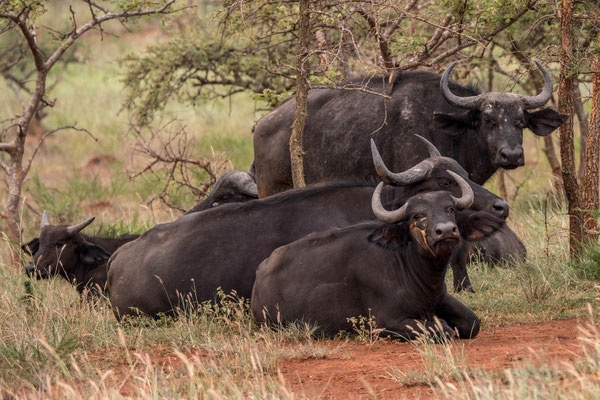buffalo: (101, 133, 513, 328), (248, 52, 570, 300), (247, 168, 481, 351), (15, 174, 260, 314)
